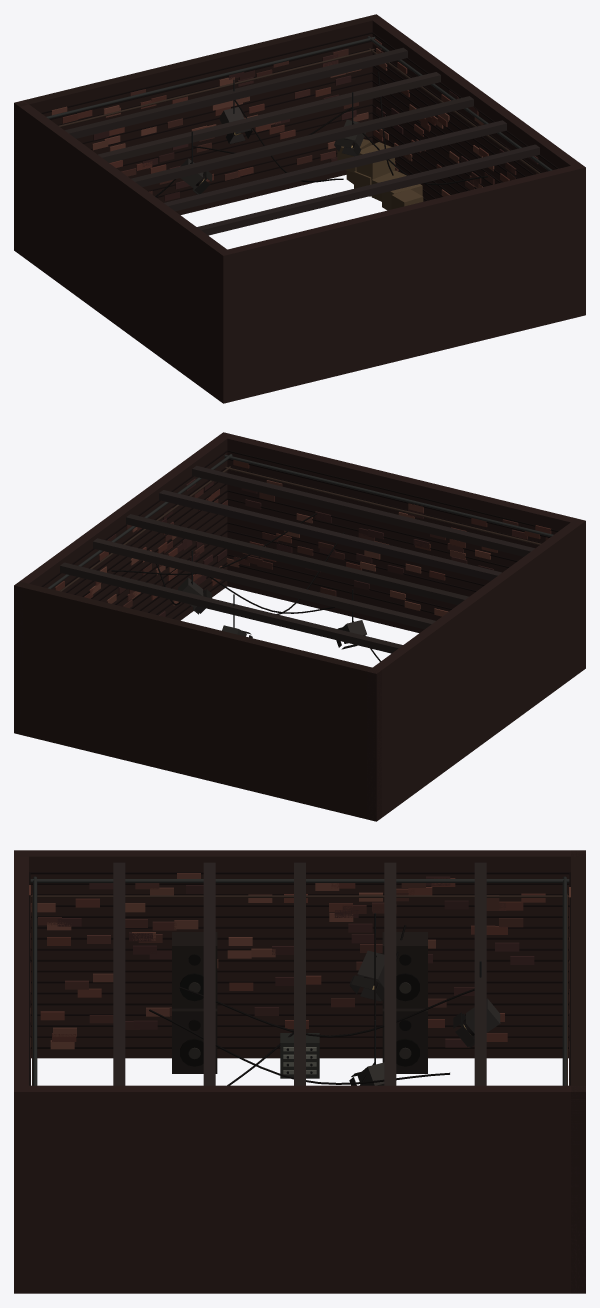
The model's file is room.glb.
The picture shows the model from 3 angles, top to bottom: view 1: azimuth 30°, elevation 25°; view 2: azimuth 150°, elevation 25°; view 3: azimuth 270°, elevation 25°; orthographic projection. The views are drawn at different scales.
Parts seen in each view (by area): view 1: Room, Ceiling; view 2: Room, Ceiling; view 3: Room, Ceiling.
Boxes of the visible parts, bbox=[...] form: Room: bbox=[14, 14, 585, 403]; Ceiling: bbox=[65, 47, 539, 235]; Room: bbox=[14, 432, 585, 821]; Ceiling: bbox=[60, 465, 534, 661]; Room: bbox=[14, 850, 585, 1293]; Ceiling: bbox=[113, 862, 500, 1085].
Size of the model in its own units: 19 by 7.76 by 19.
